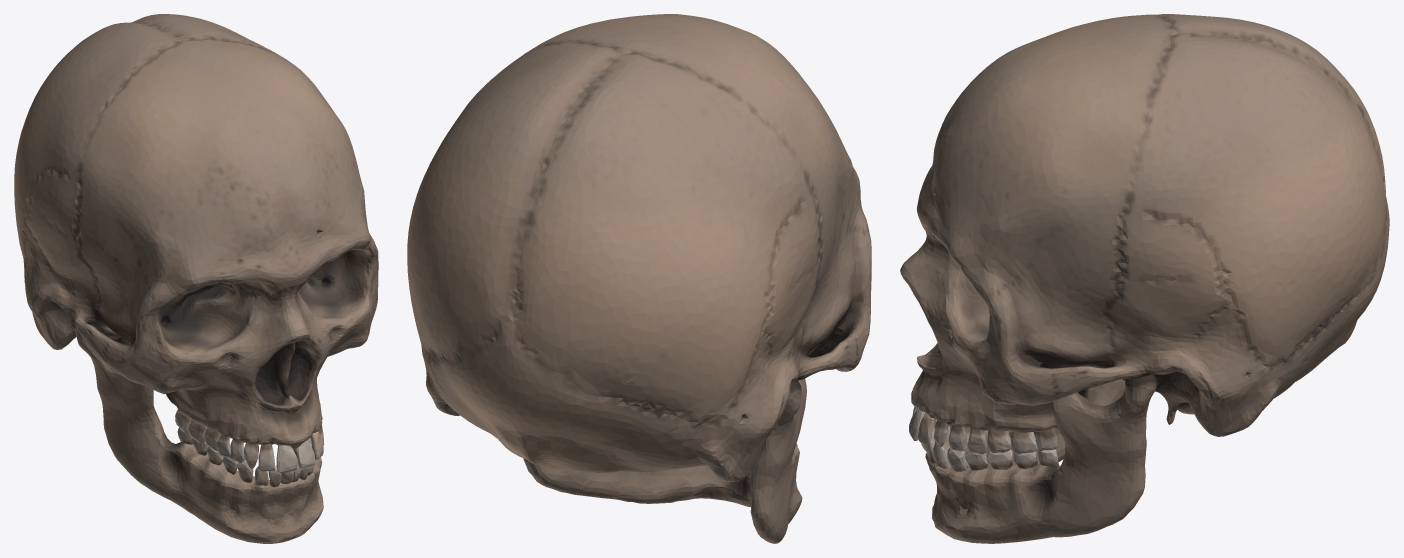
The model's file is skull.obj.
The picture shows the model from 3 angles, left to right: view 1: azimuth 30°, elevation 25°; view 2: azimuth 150°, elevation 25°; view 3: azimuth 270°, elevation 25°; orthographic projection. The views are drawn at different scales.
Visible parts, largest first — view 1: craneo; view 2: craneo; view 3: craneo.
Boxes of the visible parts, x1,y1,x2,y2 form: craneo: (14,14,378,543); craneo: (407,14,871,543); craneo: (900,14,1389,543).
Size of the model in its own units: 1.34 by 2 by 1.79.
1 material, 1 textured.
